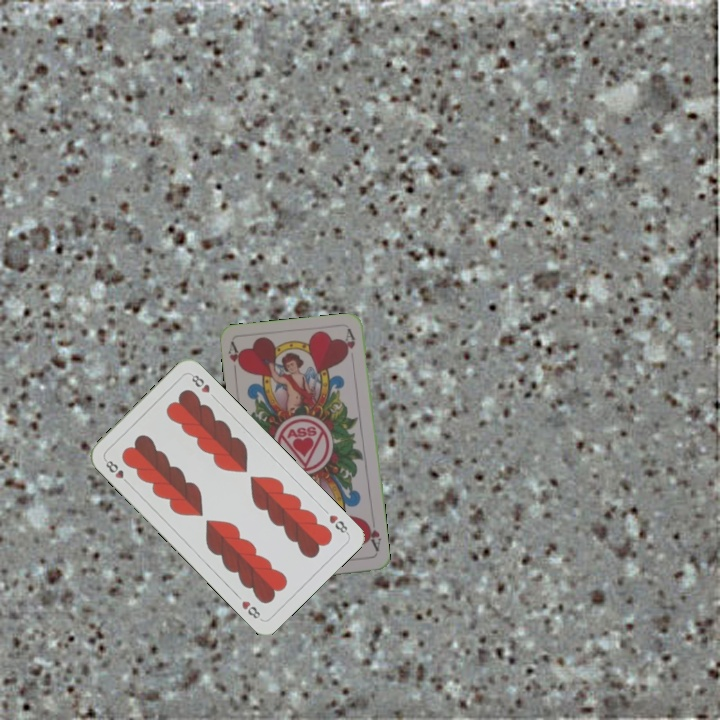H8: (101, 456, 133, 487), (325, 511, 351, 537)
HA: (362, 514, 384, 554), (224, 339, 245, 380)
